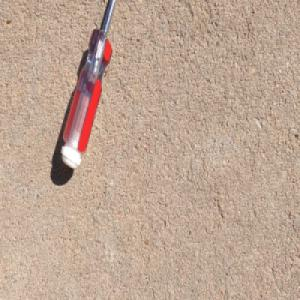Screwdriver: (60, 0, 118, 171)
